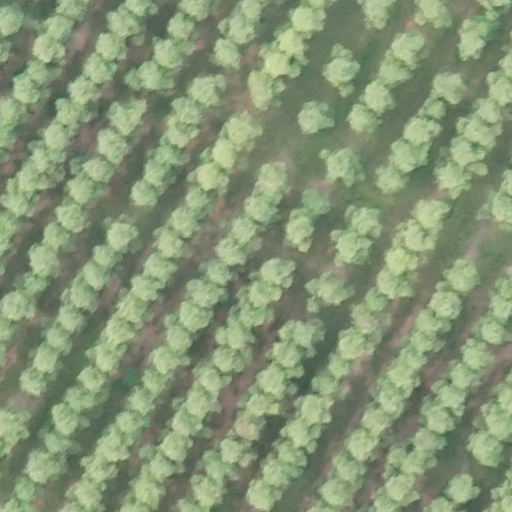eucalipto: (303, 272, 354, 312), (320, 46, 361, 91), (319, 146, 364, 185), (2, 173, 41, 217), (330, 230, 375, 268), (458, 114, 504, 150), (388, 136, 430, 175), (26, 149, 65, 189), (105, 99, 147, 136), (389, 442, 435, 475), (25, 449, 67, 485), (279, 317, 324, 350), (296, 99, 336, 136), (412, 197, 452, 234), (390, 30, 428, 68), (188, 71, 227, 108), (246, 474, 285, 511), (445, 256, 482, 295), (200, 450, 240, 486), (261, 456, 303, 490), (1, 408, 29, 458), (245, 70, 280, 110), (456, 18, 488, 61), (375, 266, 415, 300), (345, 201, 382, 237), (189, 472, 225, 509), (55, 200, 93, 235), (27, 241, 62, 279), (434, 161, 472, 196), (470, 431, 504, 470), (219, 433, 255, 469), (66, 174, 103, 209), (106, 7, 144, 41), (285, 209, 315, 252), (70, 274, 103, 313), (224, 111, 263, 144), (272, 437, 311, 470), (81, 51, 117, 86), (216, 15, 258, 45), (105, 219, 141, 254), (345, 427, 381, 462), (238, 292, 272, 329), (114, 294, 152, 327), (318, 478, 361, 507), (133, 468, 164, 508), (348, 103, 383, 138), (169, 403, 204, 438), (153, 36, 189, 70), (164, 116, 200, 150), (404, 219, 438, 255), (257, 365, 294, 398), (295, 393, 333, 425), (211, 343, 250, 374), (336, 331, 375, 362), (1, 289, 36, 323), (22, 58, 63, 87), (40, 427, 81, 456), (259, 256, 295, 289), (94, 429, 131, 461), (80, 454, 118, 485), (450, 137, 489, 167), (282, 420, 321, 450), (56, 96, 90, 130), (185, 385, 219, 419), (430, 72, 465, 105), (139, 62, 175, 94), (363, 79, 395, 115), (376, 380, 408, 416), (147, 346, 191, 372), (404, 116, 442, 146), (215, 320, 254, 349), (97, 130, 131, 163), (167, 206, 201, 239), (148, 448, 181, 482), (184, 279, 224, 307), (374, 165, 409, 197), (412, 309, 452, 337), (459, 339, 494, 371), (445, 473, 480, 505), (66, 74, 102, 105), (208, 39, 244, 70), (332, 453, 368, 484), (193, 164, 230, 194), (427, 290, 464, 320), (435, 381, 468, 414), (51, 403, 85, 435), (158, 432, 192, 464), (424, 402, 458, 434), (141, 159, 176, 190), (177, 303, 214, 332), (413, 1, 450, 30), (376, 60, 413, 89), (95, 32, 128, 64), (127, 181, 161, 212), (257, 161, 291, 192), (386, 245, 420, 276), (13, 73, 48, 103), (103, 317, 136, 348), (82, 154, 116, 184), (350, 306, 384, 336), (261, 52, 296, 81), (289, 6, 325, 34), (129, 274, 165, 302), (65, 385, 102, 412), (33, 34, 67, 63), (56, 305, 90, 334), (275, 31, 309, 60), (381, 474, 415, 503), (18, 365, 49, 396), (154, 230, 186, 260), (228, 216, 260, 246), (211, 138, 240, 171), (143, 253, 177, 281), (309, 371, 343, 399), (214, 239, 249, 266), (88, 245, 124, 271), (200, 259, 236, 285), (173, 96, 205, 125), (78, 365, 110, 394), (270, 340, 303, 368), (387, 364, 420, 392), (40, 15, 74, 42), (243, 196, 277, 223), (68, 484, 102, 511), (414, 429, 449, 455), (43, 120, 73, 150), (81, 261, 111, 291), (41, 222, 72, 251), (250, 280, 283, 307), (233, 414, 266, 441), (410, 330, 447, 354), (486, 71, 512, 105), (242, 392, 277, 417), (126, 385, 155, 415), (164, 323, 192, 354), (113, 410, 148, 434), (164, 13, 195, 40), (300, 188, 331, 215), (33, 343, 60, 373), (448, 363, 478, 390), (198, 367, 230, 392), (44, 325, 73, 352), (474, 96, 503, 123), (249, 182, 283, 205), (152, 146, 191, 166), (1, 96, 22, 133), (177, 1, 214, 22), (491, 190, 512, 227), (361, 408, 392, 433), (363, 285, 390, 313), (142, 369, 171, 395), (1, 4, 23, 38), (93, 349, 122, 374), (478, 321, 507, 346), (327, 351, 352, 379), (401, 345, 429, 370), (233, 1, 264, 23), (182, 190, 212, 212), (487, 297, 512, 323), (124, 1, 160, 19), (55, 1, 89, 20), (418, 97, 447, 119), (25, 272, 50, 295), (12, 480, 38, 502), (501, 50, 512, 80)
